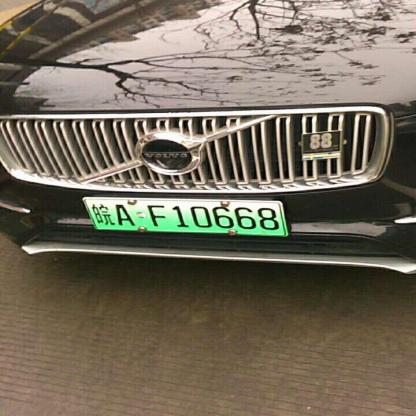lp: (84, 196, 288, 236)
